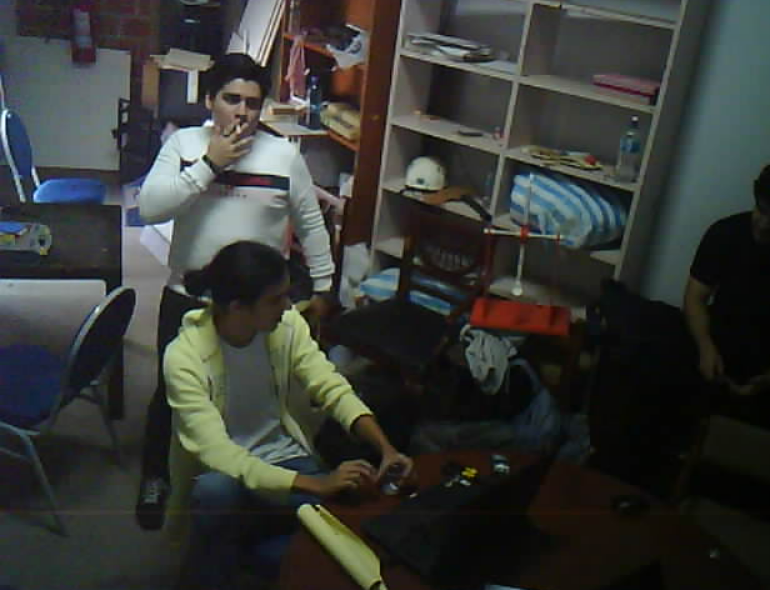person: (142, 237, 424, 590), (130, 36, 352, 272), (669, 150, 770, 507)
